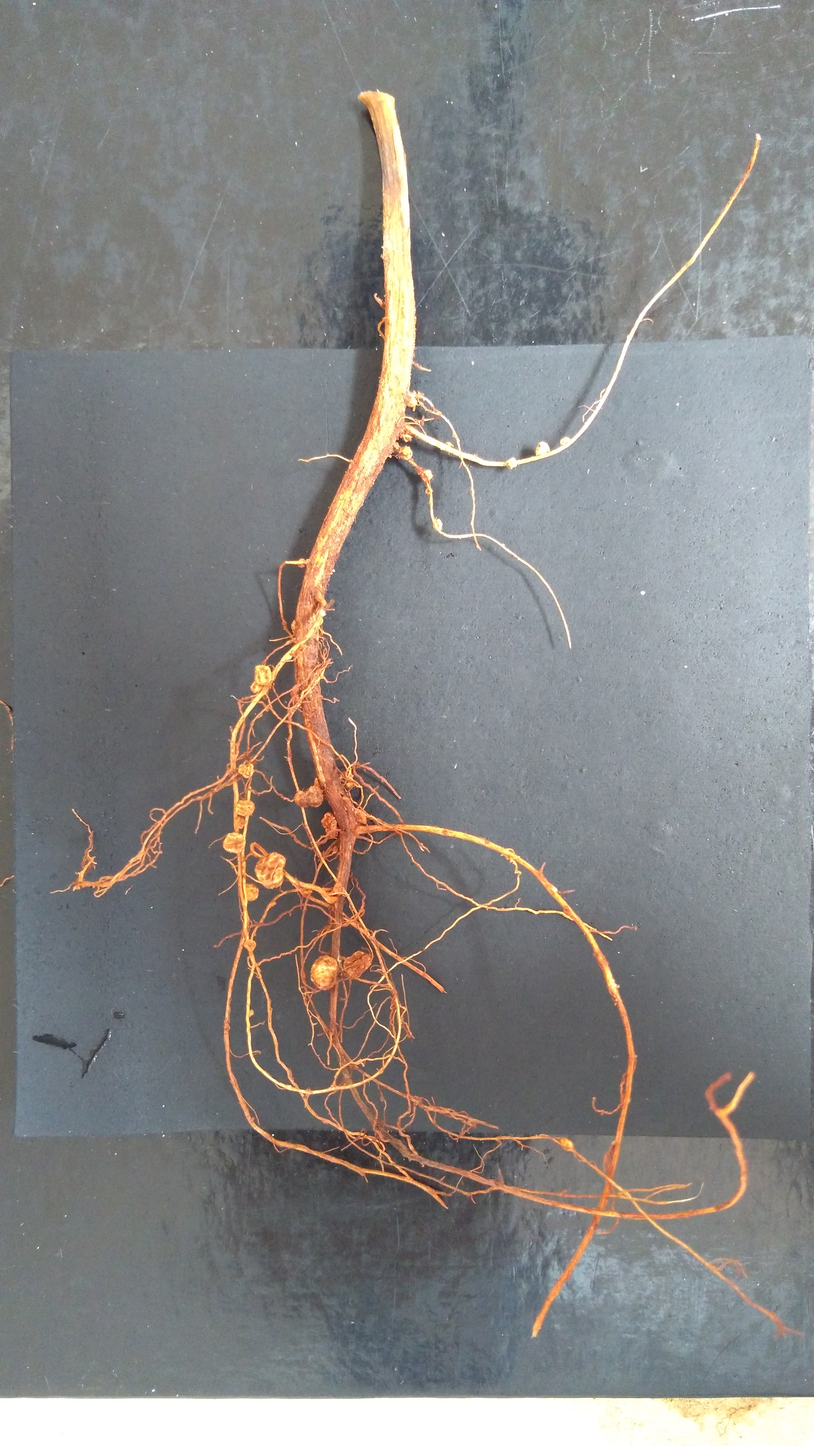nodule: (253, 851, 287, 890), (308, 954, 338, 991), (342, 950, 372, 983), (221, 831, 246, 854), (320, 811, 340, 838), (305, 785, 324, 808), (254, 664, 272, 686), (234, 799, 255, 817), (292, 789, 310, 809), (242, 882, 259, 902), (535, 440, 552, 457), (239, 760, 255, 778), (398, 445, 413, 460), (242, 938, 257, 953), (352, 810, 367, 825), (248, 679, 262, 694), (560, 1137, 574, 1152), (233, 815, 247, 829), (405, 395, 418, 408), (505, 457, 518, 470), (432, 518, 443, 531), (332, 883, 343, 896), (423, 469, 434, 480), (401, 433, 413, 443), (559, 436, 571, 446), (290, 684, 300, 696), (238, 763, 248, 775), (297, 558, 305, 570), (424, 487, 434, 495), (345, 781, 354, 789), (446, 441, 454, 448), (248, 1009, 254, 1018), (281, 619, 287, 627)
